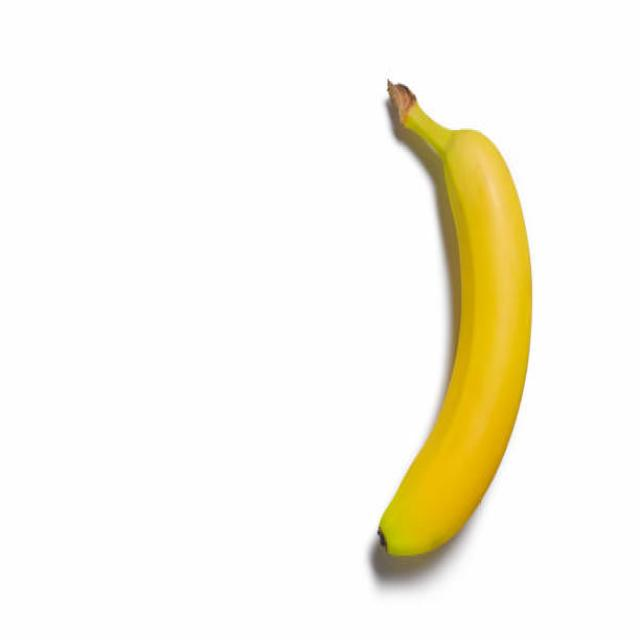banana: (378, 81, 534, 561)
